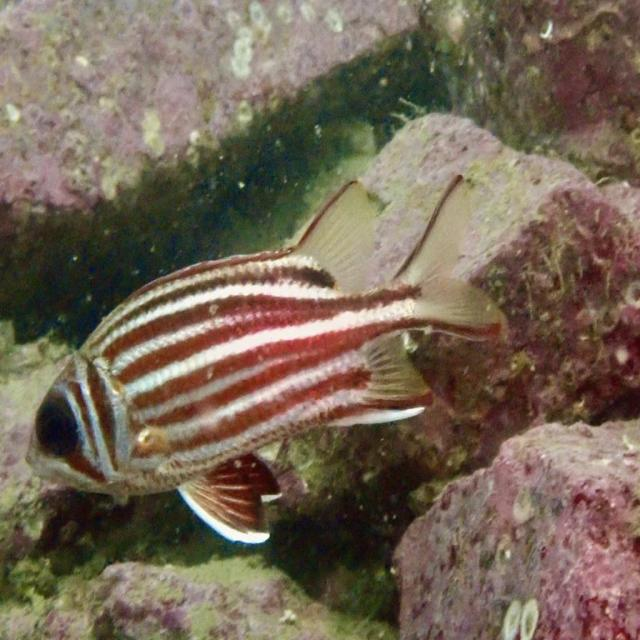Asker Baligi: (19, 153, 516, 560)
